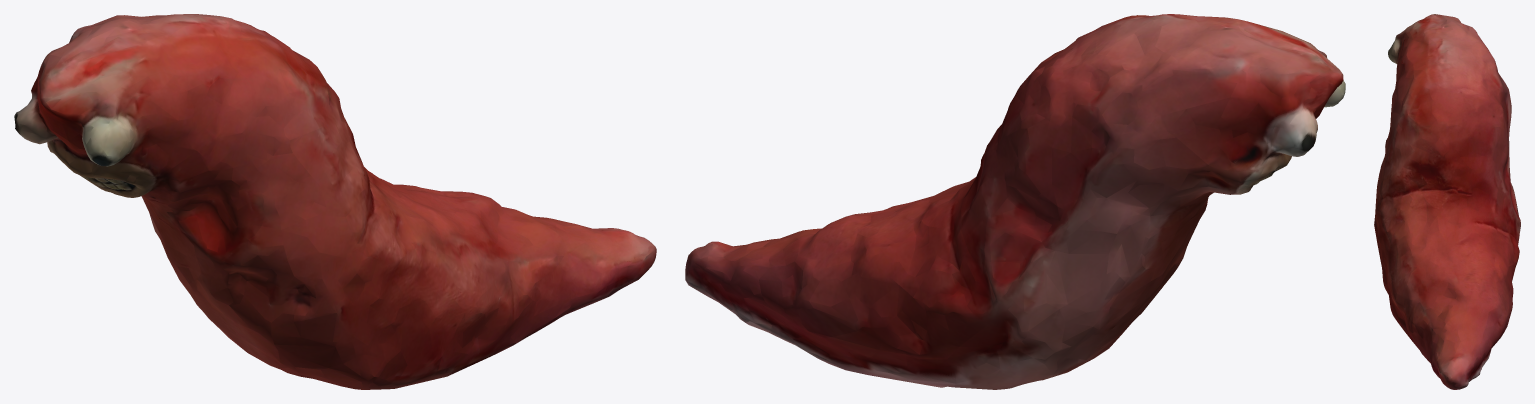
Rendered from yamEsacpe_YamWalk_0013_yamWalk01.fbx.
The picture shows the model from 3 angles, left to right: view 1: azimuth 30°, elevation 25°; view 2: azimuth 150°, elevation 25°; view 3: azimuth 270°, elevation 25°; orthographic projection. The views are drawn at different scales.
Parts seen in each view (by area): view 1: YamWalk_0013_yamWalk01; view 2: YamWalk_0013_yamWalk01; view 3: YamWalk_0013_yamWalk01.
Boxes of the visible parts, box(x1,y1,x2,y2) form: YamWalk_0013_yamWalk01: box(14, 14, 656, 389); YamWalk_0013_yamWalk01: box(685, 14, 1345, 389); YamWalk_0013_yamWalk01: box(1374, 14, 1520, 389).
Bounding box in the file's own units: 0.0997 × 0.0627 × 0.0348.
